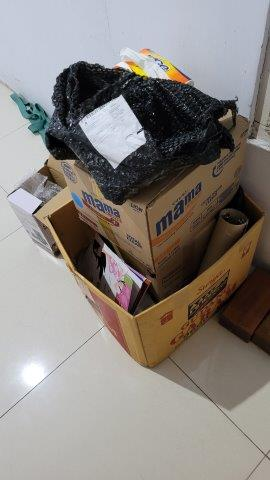kardus: (5, 152, 270, 370)
